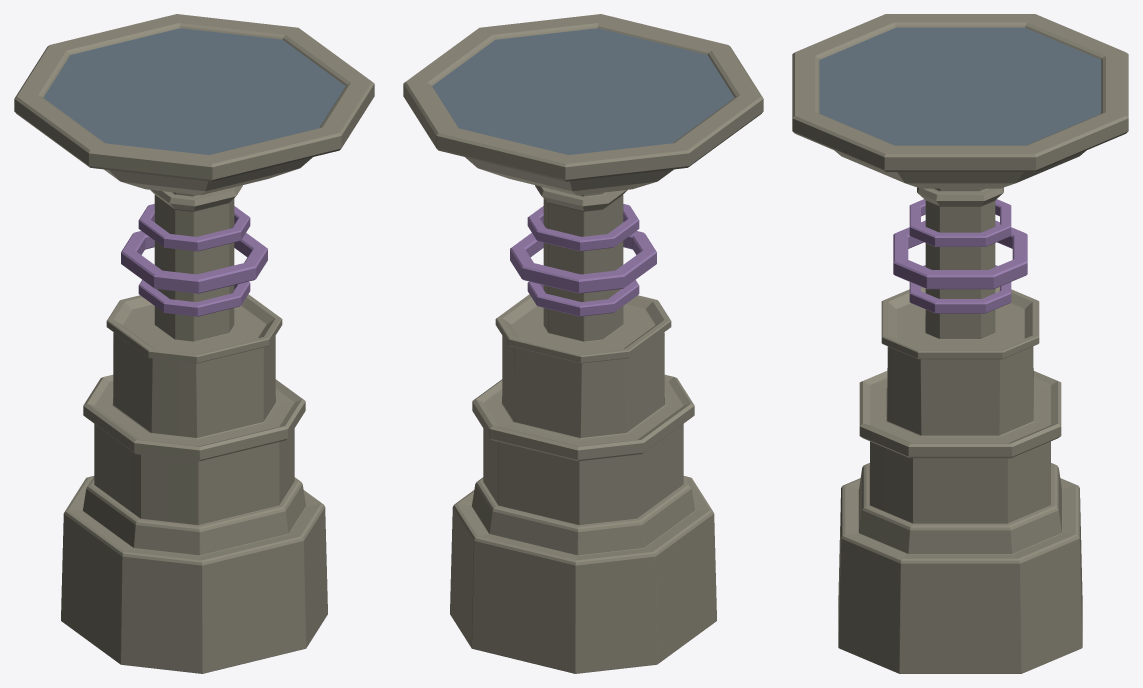
File: NEW_waterFountain_center.fbx
3 renders of one model, left to right at view 1: azimuth 30°, elevation 25°; view 2: azimuth 150°, elevation 25°; view 3: azimuth 270°, elevation 25°, orthographic.
Parts seen in each view (by area): view 1: waterFountain_center; view 2: waterFountain_center; view 3: waterFountain_center.
Boxes of the visible parts, left/top/right/bottom form: waterFountain_center: left=14, top=14, right=374, bottom=673; waterFountain_center: left=403, top=14, right=763, bottom=673; waterFountain_center: left=792, top=14, right=1128, bottom=673.
Bounding box in the file's own units: 119 × 210 × 119.
